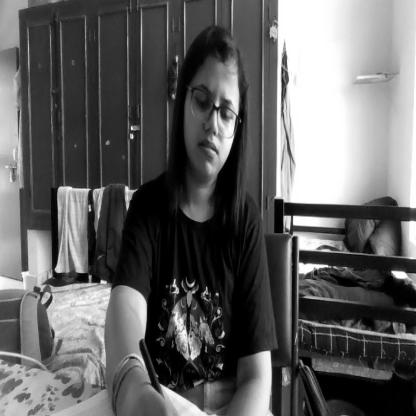Normal: (178, 28, 245, 193)
